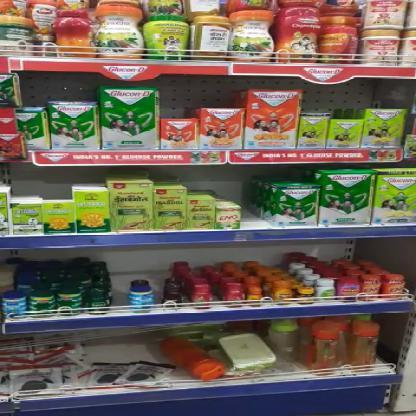Glucon D Nimbu Pani 1-KG: (369, 170, 415, 222), (362, 106, 400, 146)
Glucon D Regular 1-KG: (96, 89, 155, 148)
Glucon D Tangy orange 1-KG: (246, 89, 298, 146)
